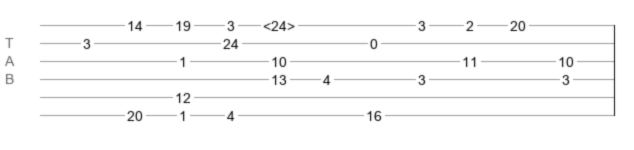0: (370, 36, 378, 46)
1: (179, 54, 187, 64), (179, 108, 187, 118)
10: (271, 54, 287, 64), (558, 54, 574, 64)
11: (462, 54, 478, 64)
12: (175, 90, 191, 100)
13: (271, 72, 287, 82)
14: (127, 18, 143, 28)
16: (366, 108, 382, 118)
19: (175, 18, 191, 28)
2: (466, 18, 474, 28)
20: (127, 108, 143, 118), (510, 18, 526, 28)
24: (223, 36, 239, 46)
3: (83, 36, 91, 46), (227, 18, 235, 28), (418, 18, 426, 28), (418, 72, 426, 82), (562, 72, 570, 82)
4: (227, 108, 235, 118), (323, 72, 331, 82)
harmonic: (263, 18, 295, 28)
